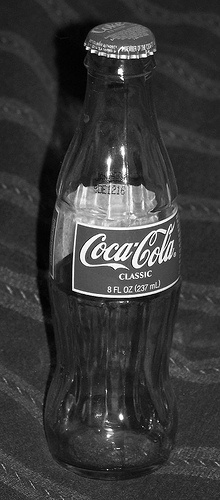emptybottle: (47, 22, 174, 482)
